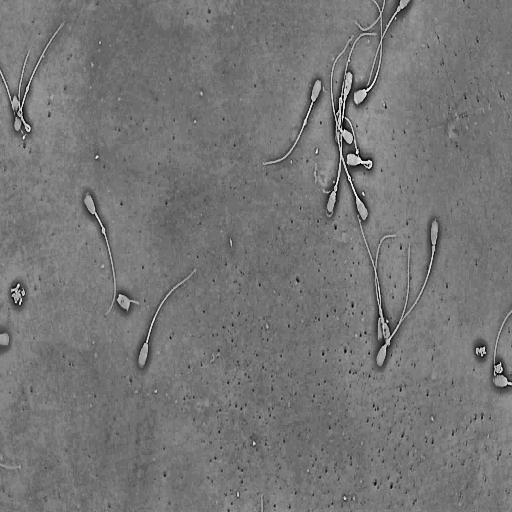dirt-particles: (10, 280, 26, 308), (474, 343, 488, 360), (492, 360, 504, 376)
distal-droplet: (302, 116, 308, 128), (101, 225, 107, 237), (25, 83, 30, 93), (347, 174, 352, 183)
folded-tail: (344, 116, 372, 169), (18, 50, 30, 132), (24, 122, 29, 130)
loose-head: (116, 291, 132, 314)
loose-tail: (0, 67, 26, 140), (354, 0, 386, 33)
normal: (137, 266, 198, 372), (13, 20, 65, 133), (259, 76, 322, 168), (82, 189, 117, 320), (400, 216, 441, 324), (376, 244, 410, 367), (367, 0, 409, 88), (335, 122, 370, 222), (352, 0, 383, 107), (331, 37, 353, 145), (11, 46, 33, 134), (326, 116, 345, 214), (344, 114, 374, 171)
proximal-droplet: (333, 183, 339, 193), (431, 244, 436, 253)
